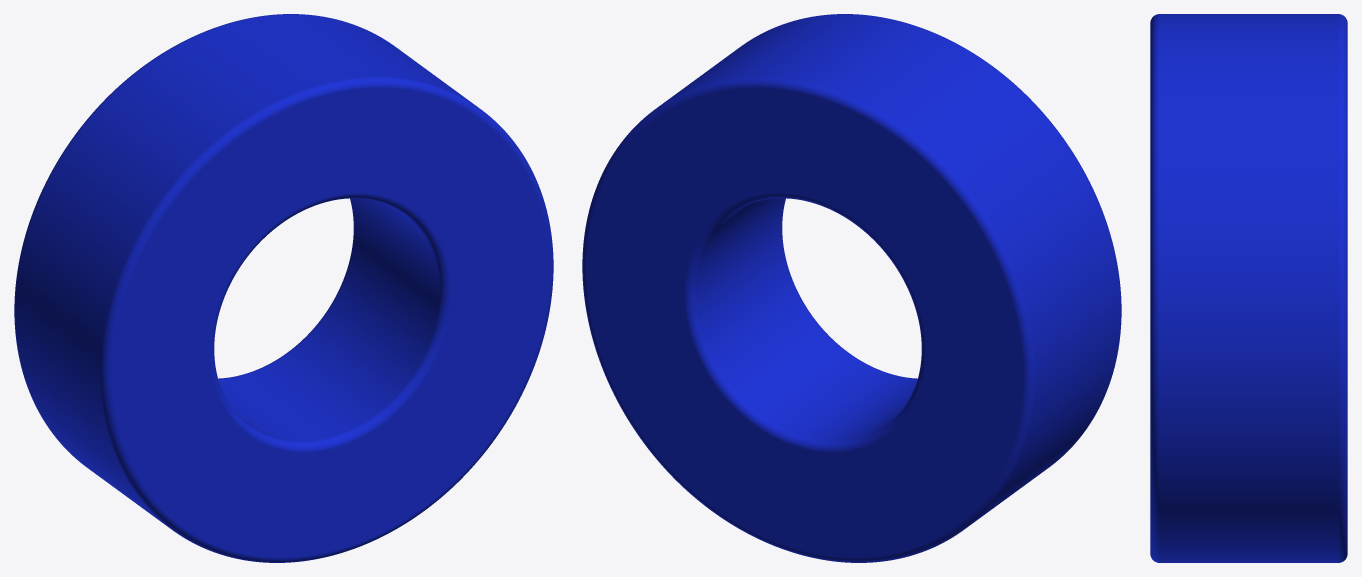
File: rear-sns-opposite-blue-region-v1.glb
The picture shows the model from 3 angles, left to right: view 1: azimuth 30°, elevation 25°; view 2: azimuth 150°, elevation 25°; view 3: azimuth 270°, elevation 25°; orthographic projection. The views are drawn at different scales.
Visible parts, largest first — view 1: SNS opposite broadblue annular region - estimated continuati; view 2: SNS opposite broadblue annular region - estimated continuati; view 3: SNS opposite broadblue annular region - estimated continuati.
Part boxes in pixels (x1,y1,x2,y2): SNS opposite broadblue annular region - estimated continuati: [14, 14, 553, 562]; SNS opposite broadblue annular region - estimated continuati: [582, 14, 1121, 562]; SNS opposite broadblue annular region - estimated continuati: [1150, 14, 1347, 562].
Bounding box in the file's own units: 0.0295 × 0.0295 × 0.0106.
